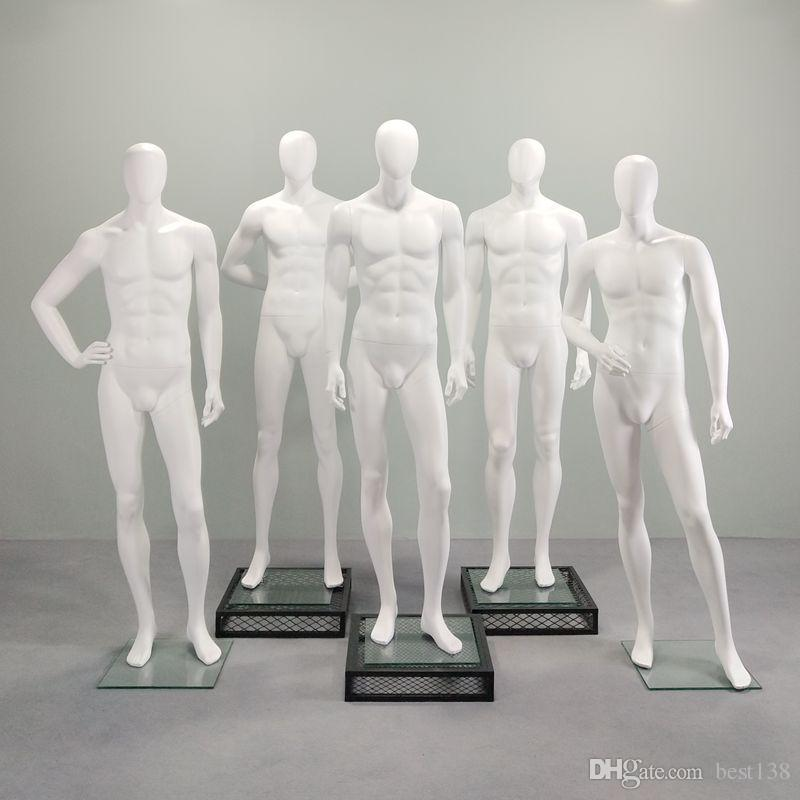person-like: (25, 133, 234, 670), (557, 147, 756, 694), (325, 112, 468, 659), (216, 122, 355, 590), (459, 135, 597, 593)
